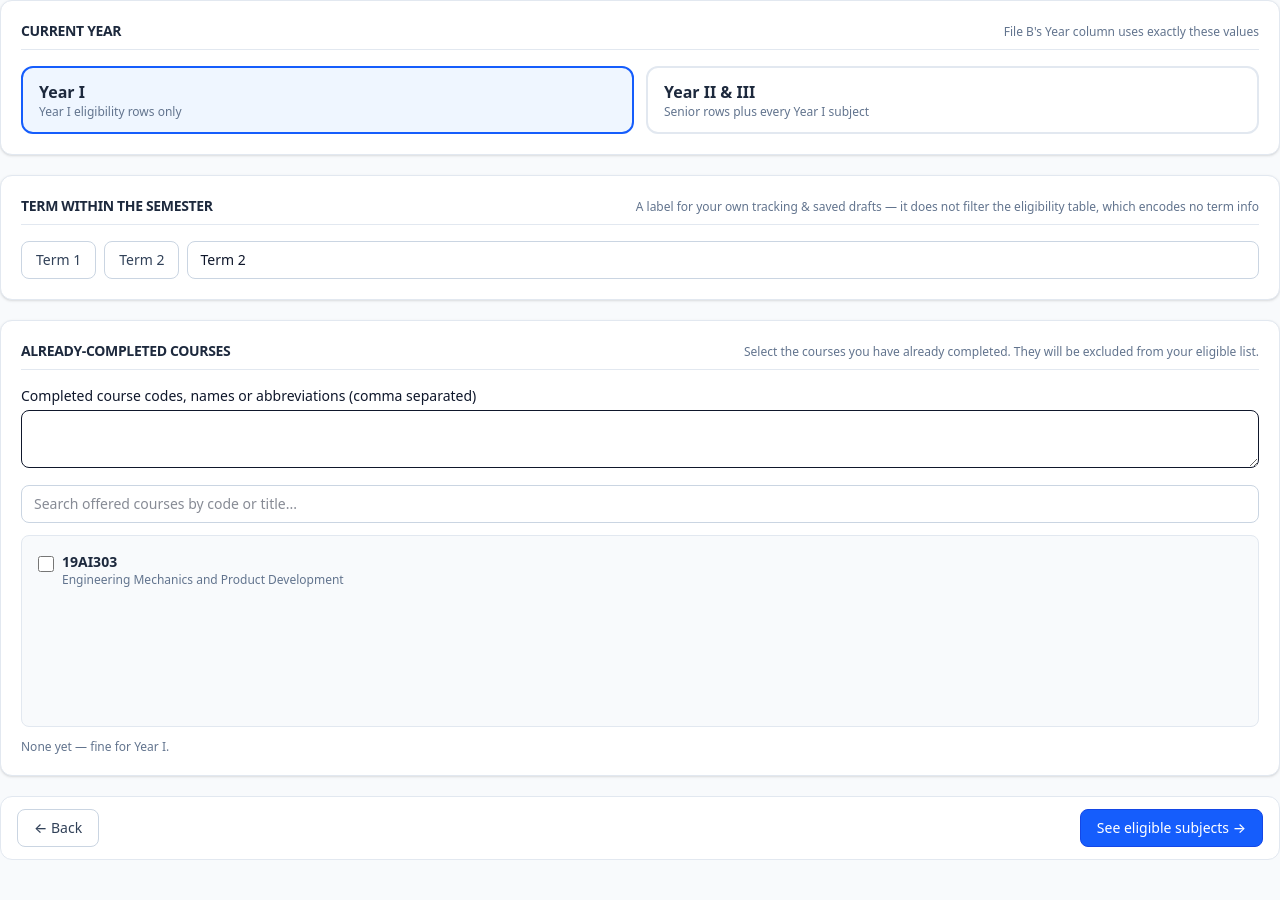
Completion input › resolves EMPD and blocks unknown/ambiguous entries with a visible warning
Type "EMPD" into the text box named "Completed courses". click: (640, 439)
box: x1=21 y1=410 x2=1259 y2=468
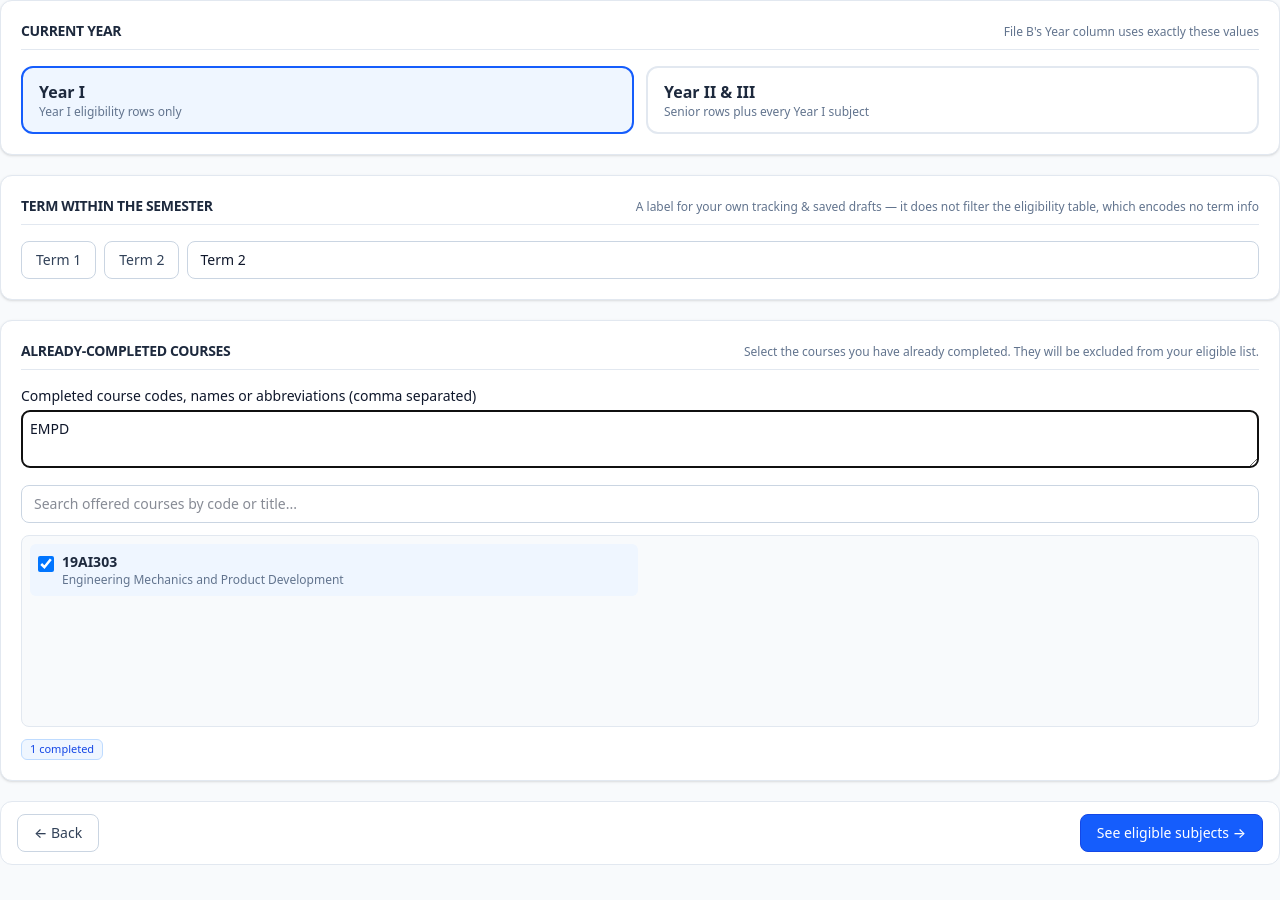
Expected: the button "See eligible subjects →" is enabled, x1=1080 y1=814 x2=1263 y2=852
Type ", mystery" into the text box named "Completed courses". click: (640, 439)
box: x1=21 y1=410 x2=1259 y2=468
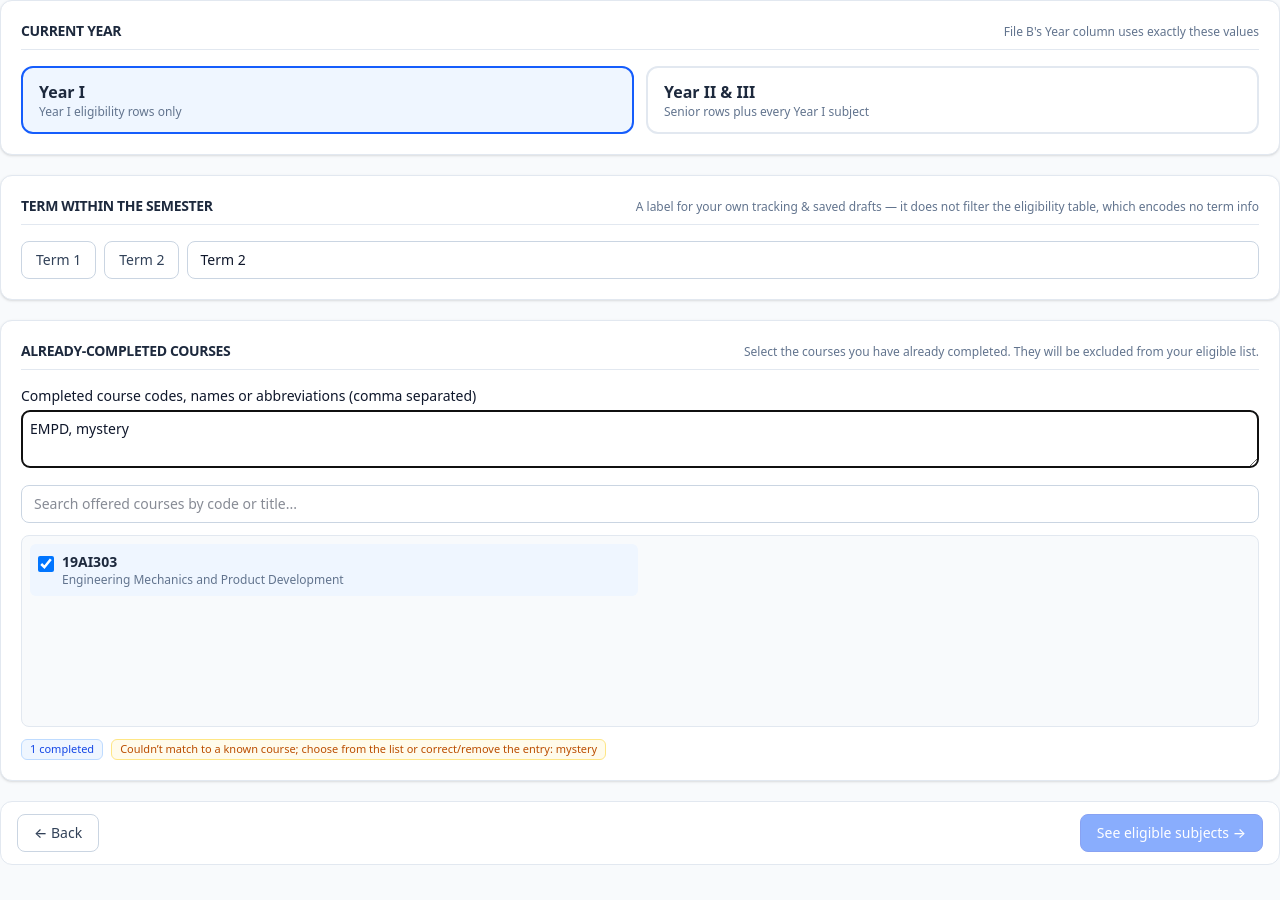
Expected: the text "Couldn’t match to a known course" is shown, x1=120 y1=741 x2=556 y2=756
Expected: the button "See eligible subjects →" is disabled, x1=1080 y1=814 x2=1263 y2=852
